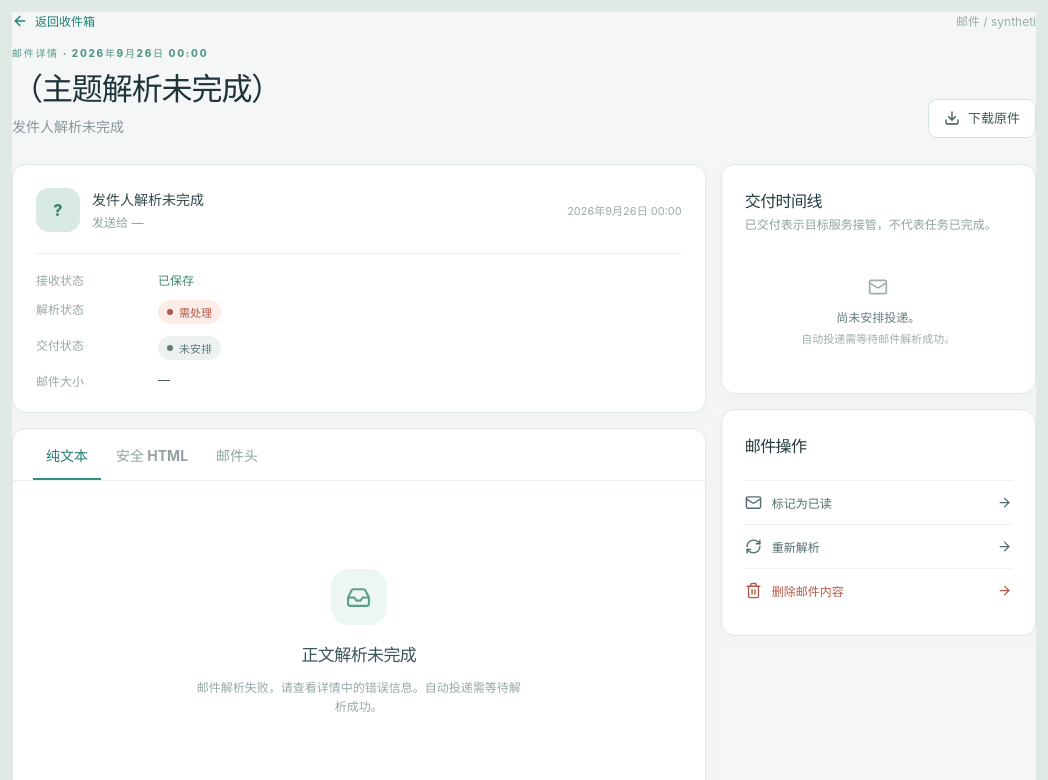
Test case: distinguishes failed content from a parsed empty email
Expected: the heading "（主题解析未完成）" is shown, [12,71,281,108]
Expected: the text "发件人解析未完成" is shown 2 times, [12,118,124,135]; [92,190,204,210]
What coordinates should you click on to do the following:
click the tab "安全 HTML"
I would click on:
 (152, 454)
Its box is [103,429,201,480].
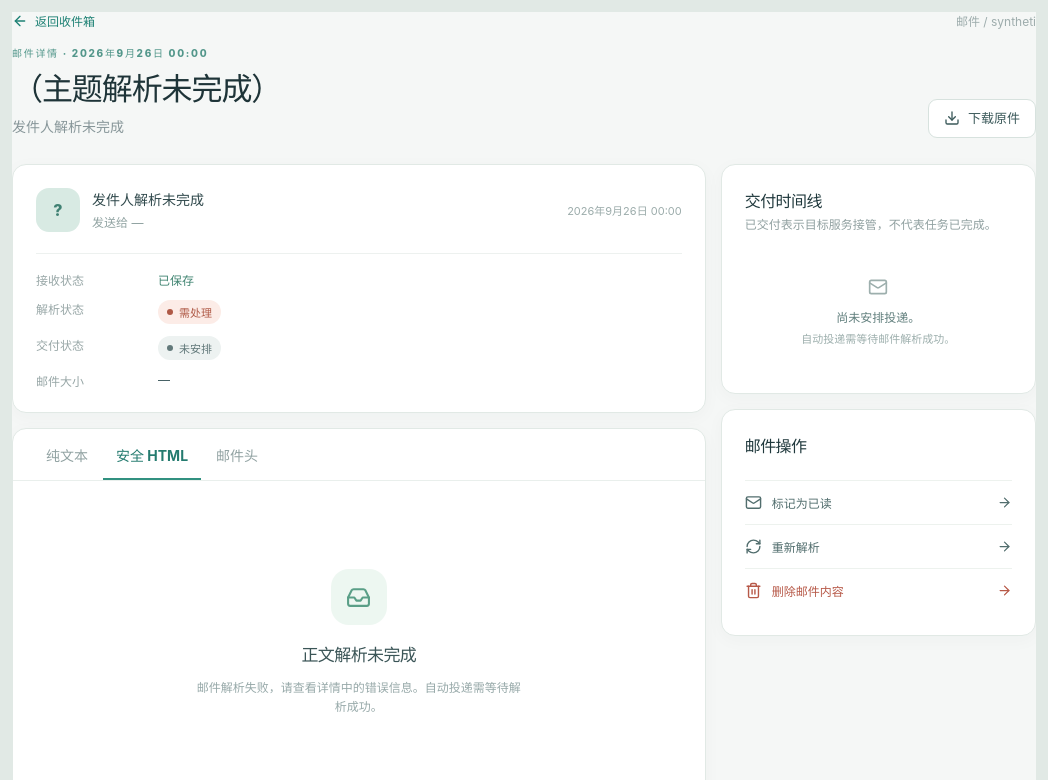
Expected: the heading "正文解析未完成" is shown, [301,640,416,671]
What coordinates should you click on to do the following:
click the tab "邮件头"
I would click on:
 (237, 454)
Its box is [203,429,271,480].
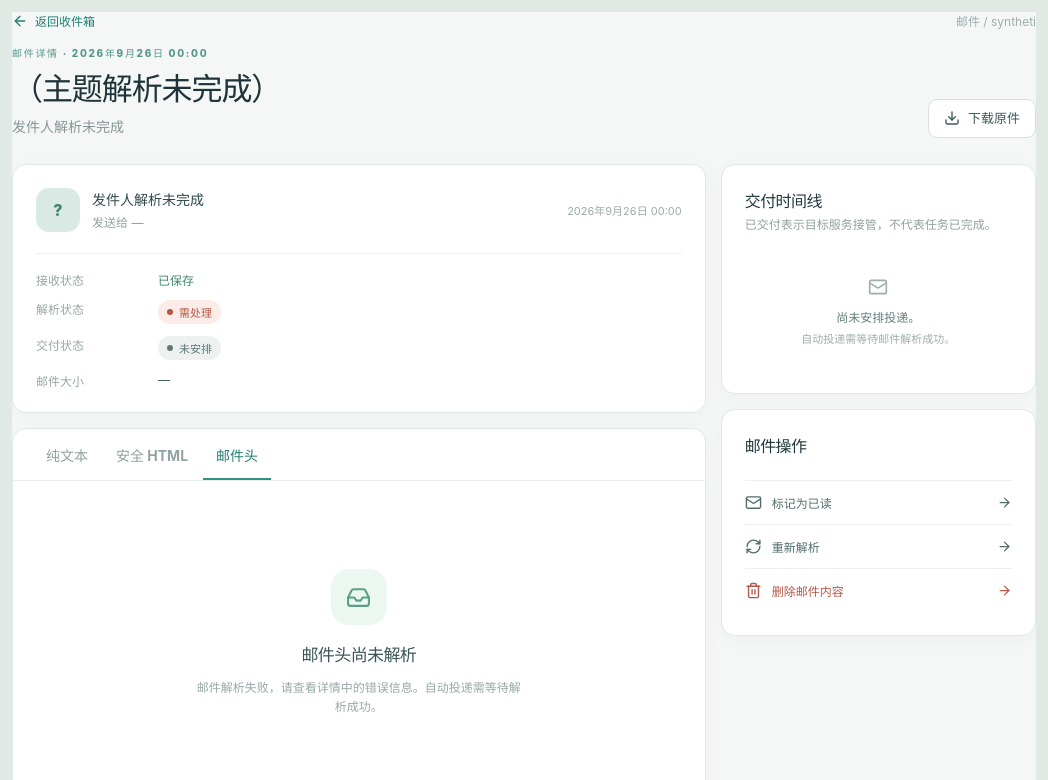
Expected: the heading "邮件头尚未解析" is shown, [301,640,416,671]
